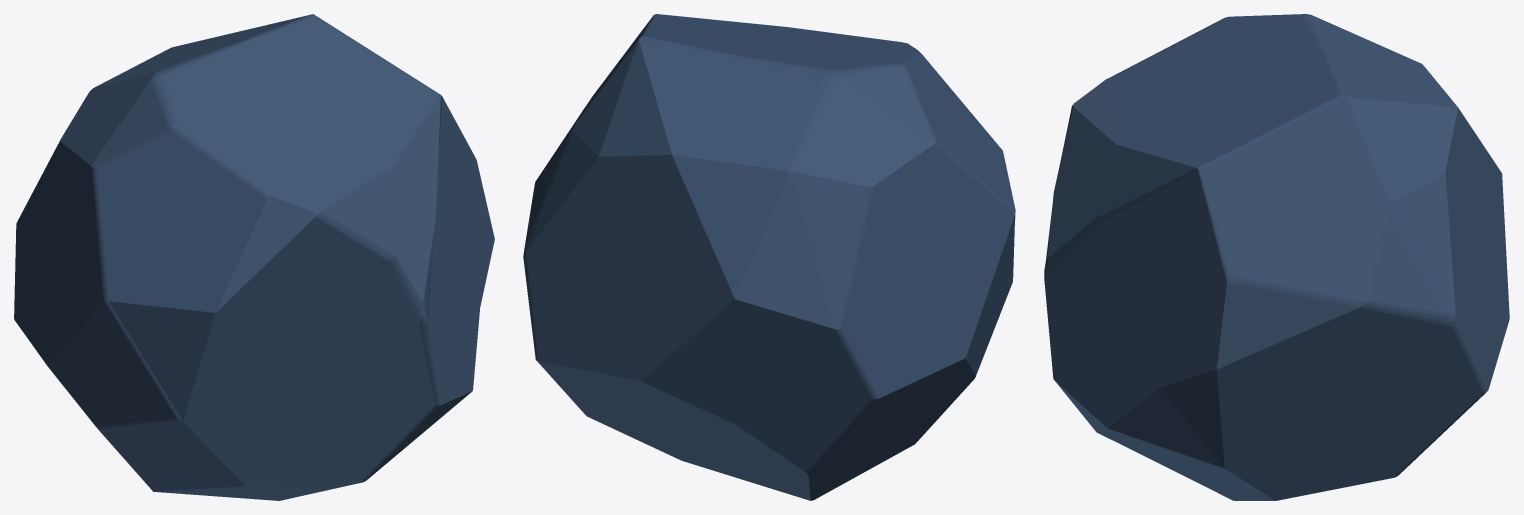
The model's file is BOSS_Pierre.fbx.
The picture shows the model from 3 angles, left to right: view 1: azimuth 30°, elevation 25°; view 2: azimuth 150°, elevation 25°; view 3: azimuth 270°, elevation 25°; orthographic projection. The views are drawn at different scales.
Visible parts, largest first — view 1: Cube.001; view 2: Cube.001; view 3: Cube.001.
Boxes of the visible parts, left/top/right/bottom form: Cube.001: left=14, top=14, right=494, bottom=500; Cube.001: left=523, top=14, right=1015, bottom=500; Cube.001: left=1044, top=14, right=1509, bottom=500.
Size of the model in its own units: 1465 by 1427 by 1402.
